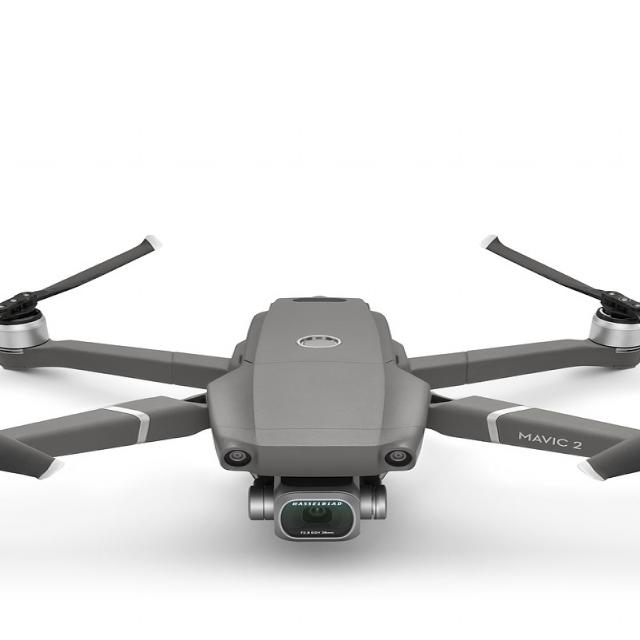drone: (0, 212, 640, 630)
